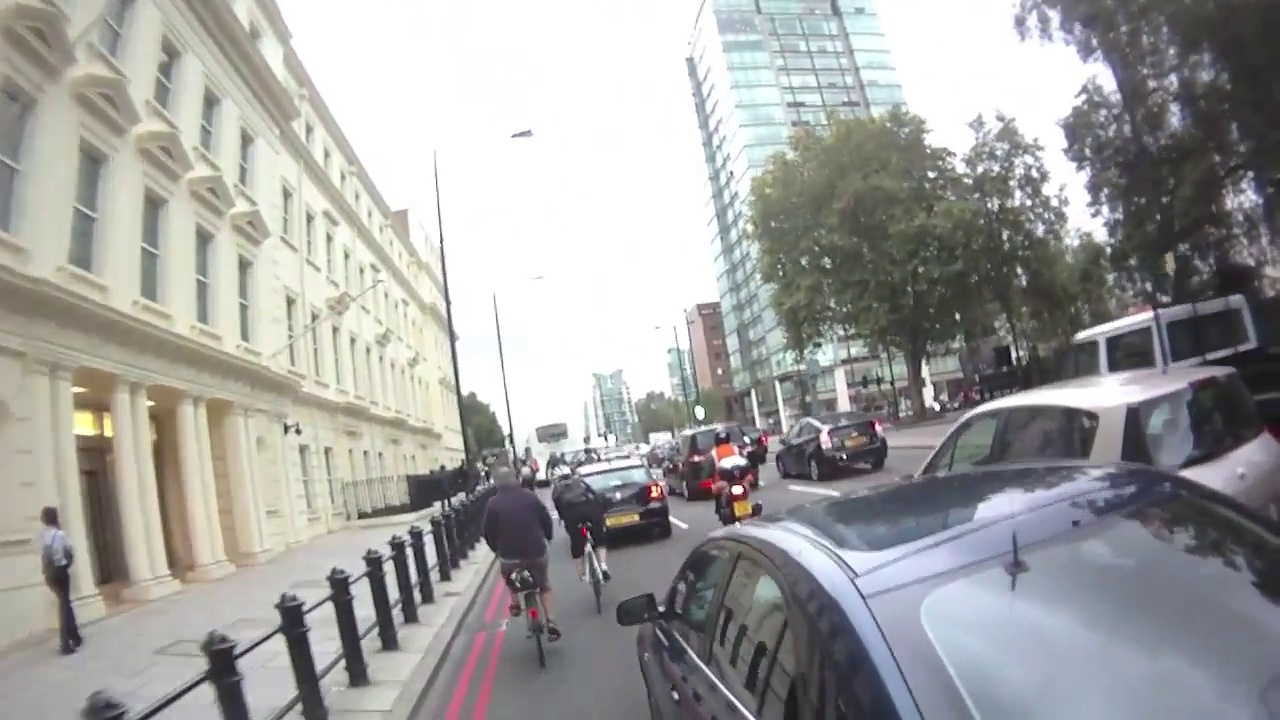cyclist_back: (479, 456, 565, 677), (546, 463, 620, 617), (698, 416, 768, 552)
